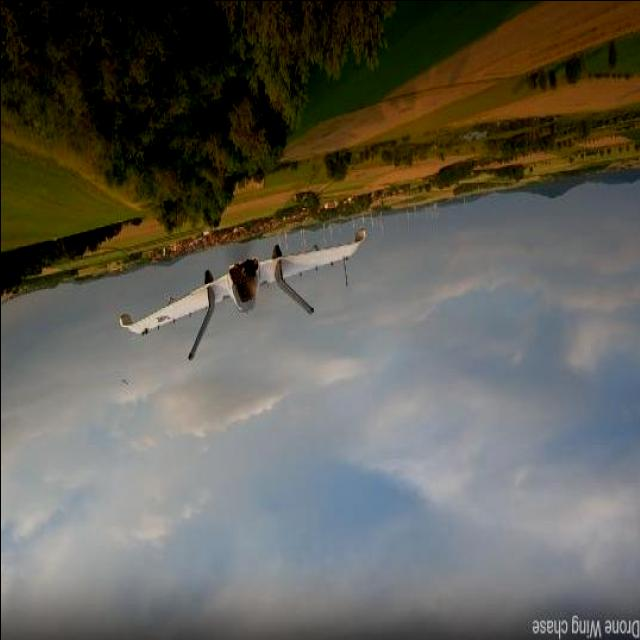plane: (118, 226, 368, 363)
